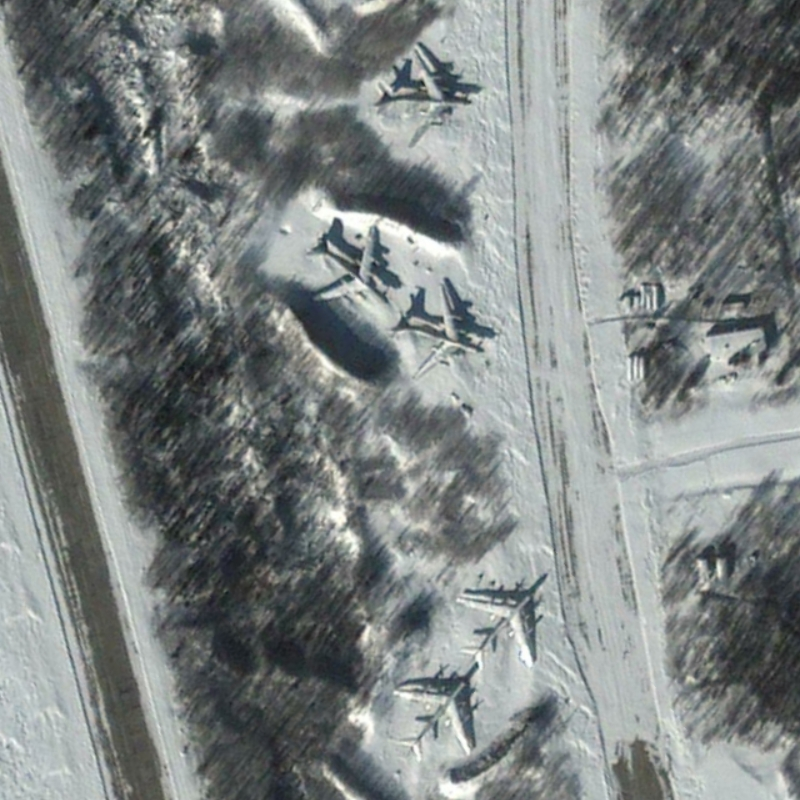A17: (363, 41, 477, 152), (387, 279, 491, 384), (298, 222, 395, 313), (451, 579, 540, 675), (387, 673, 478, 765)
